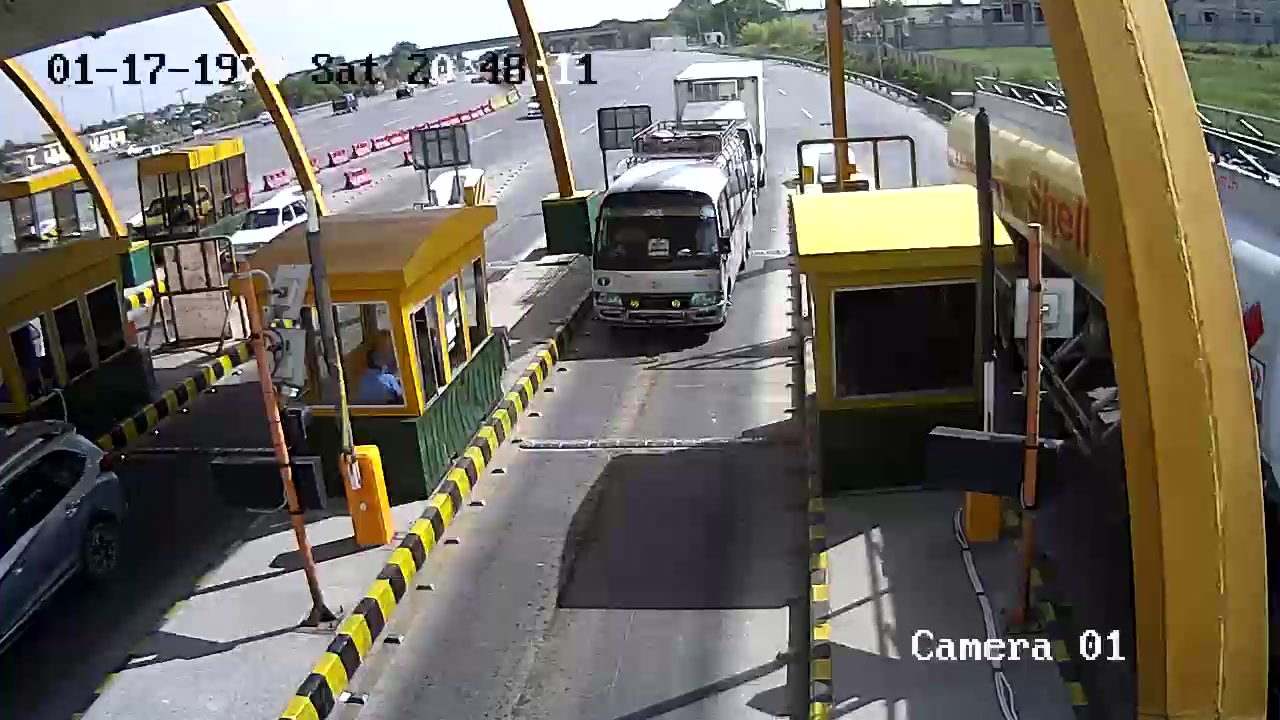F3: (583, 112, 761, 341)
